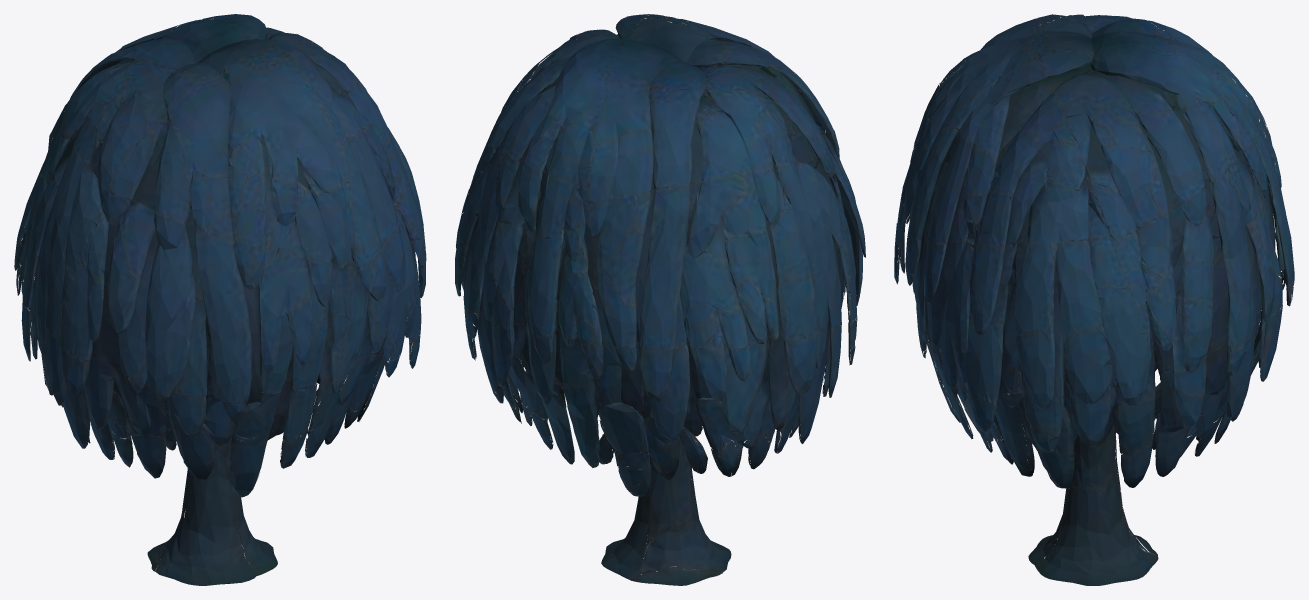
The model's file is tree-main-optimized.glb.
3 renders of one model, left to right at view 1: azimuth 30°, elevation 25°; view 2: azimuth 150°, elevation 25°; view 3: azimuth 270°, elevation 25°, orthographic. The views are drawn at different scales.
Visible parts, largest first — view 1: tmpjb5l5919.obj; view 2: tmpjb5l5919.obj; view 3: tmpjb5l5919.obj.
Part boxes in pixels (x1=…): tmpjb5l5919.obj: x1=14, y1=14, x2=426, y2=585; tmpjb5l5919.obj: x1=455, y1=14, x2=865, y2=585; tmpjb5l5919.obj: x1=894, y1=14, x2=1294, y2=585.
Bounding box in the file's own units: 1.1 × 1.52 × 1.04.
1 material, 1 textured.
